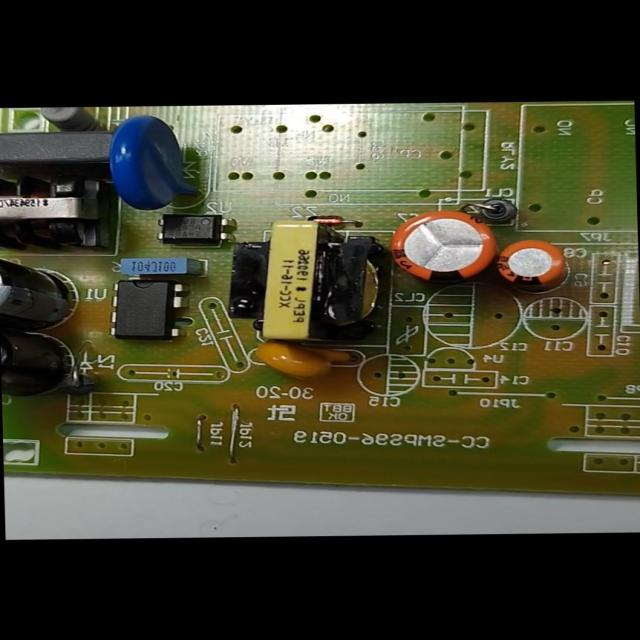Cap1: (384, 205, 494, 284)
Cap2: (494, 238, 571, 287)
Cap3: (0, 246, 82, 324)
Cap4: (0, 320, 76, 396)
MOSFET: (109, 276, 186, 343)
Mov: (105, 112, 209, 212)
Resistor: (32, 107, 98, 130)
Transformer: (224, 217, 383, 345), (0, 170, 109, 248)
